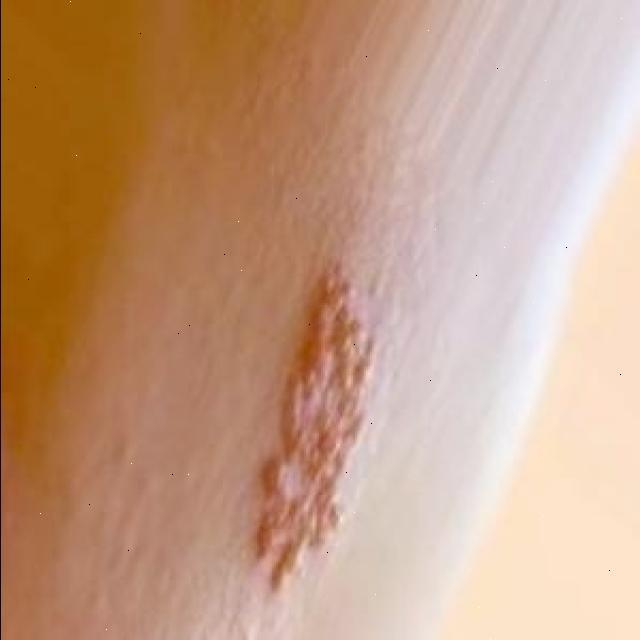Shingles: (252, 258, 377, 602)
